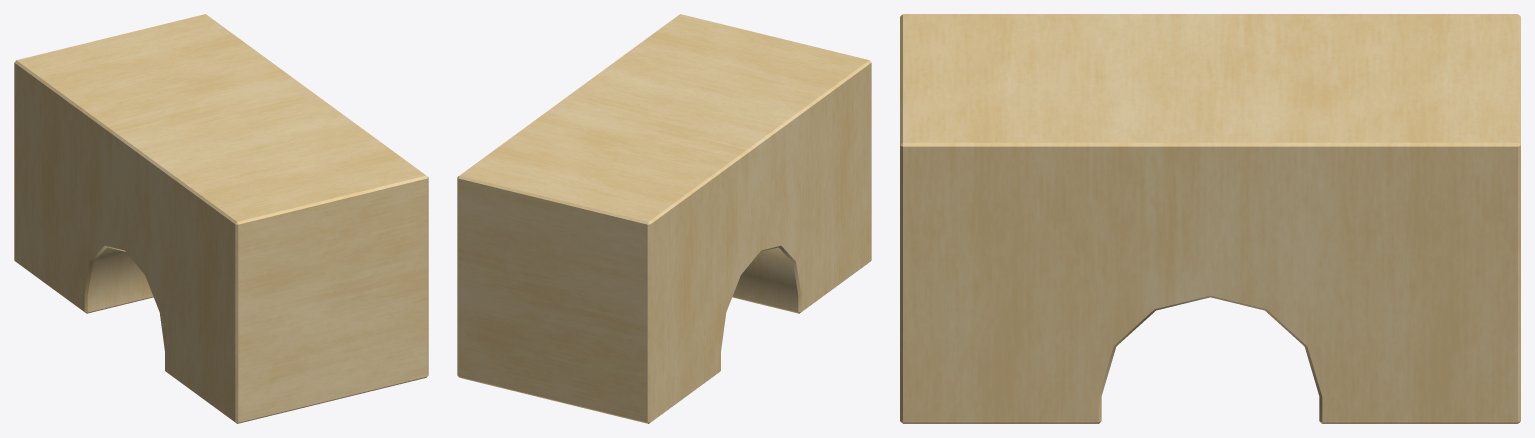
File: TaskBlock3.fbx
3 views of the same model, side by side, from view 1: azimuth 30°, elevation 25°; view 2: azimuth 150°, elevation 25°; view 3: azimuth 270°, elevation 25° (orthographic). The views are drawn at different scales.
Visible parts, largest first — view 1: TaskBlock3; view 2: TaskBlock3; view 3: TaskBlock3.
Part boxes in pixels (<box>): TaskBlock3: <box>14,14,428,423</box>; TaskBlock3: <box>457,14,871,423</box>; TaskBlock3: <box>900,14,1520,423</box>.
Size of the model in its own units: 0.6772 by 0.6772 by 1.35.
Materials: 1 (1 with a texture image).
